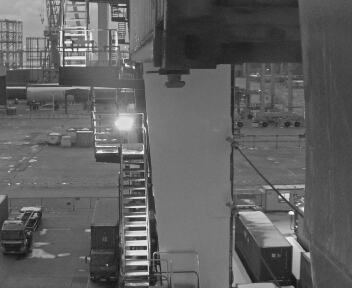twist_lock_1: (150, 61, 196, 94)
